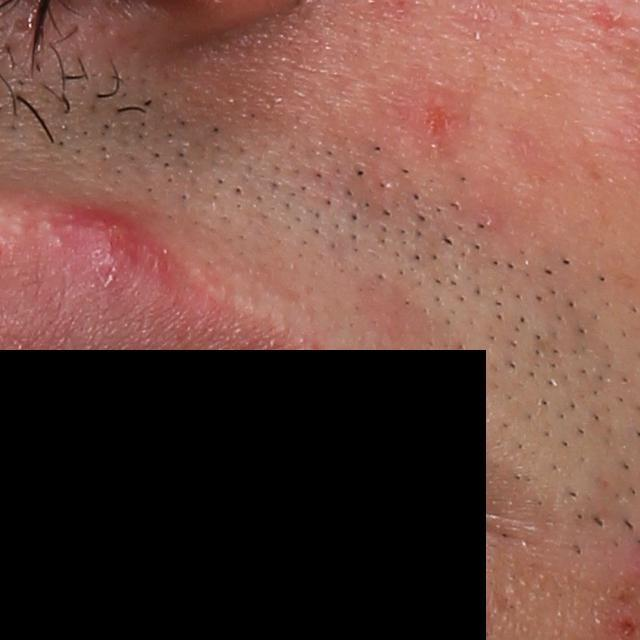papule: (67, 202, 154, 284), (408, 83, 457, 149)
